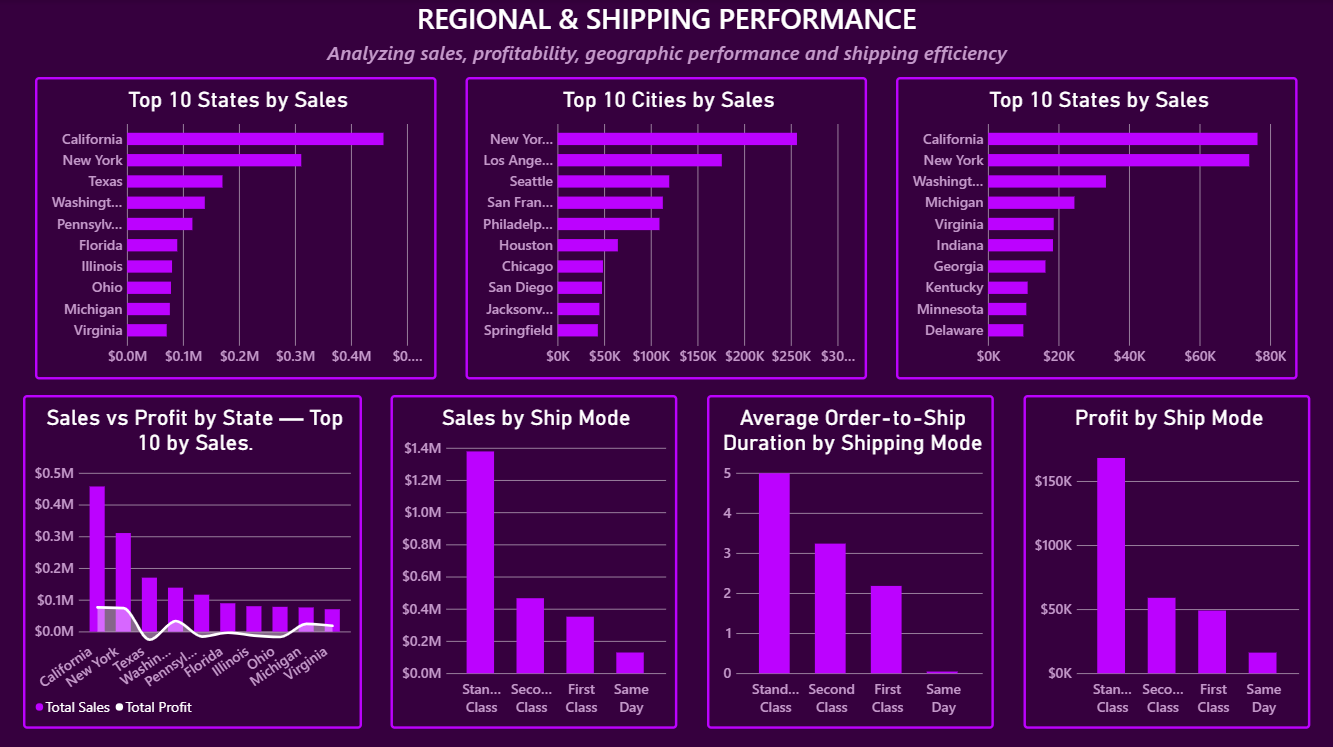

What the dashboard file says about the page in this screenshot:
{"tool":"powerbi","page":{"name":"Regional & Shipping Analysis","canvas":[2560,1440],"ordinal":3},"visuals":[{"type":"textbox","box":[793.3,0,972.5,75],"z":0},{"type":"textbox","box":[600,76.7,1360,66.7],"z":1000},{"type":"clusteredBarChart","title":"Top 10 States by Sales","fields":{"Category":["retail_sales_analytics superstore_clean.State"],"Y":["retail_sales_analytics superstore_clean.Total Sales"]},"box":[70,150,770,580],"z":2000},{"type":"clusteredBarChart","title":"Top 10 States by Sales","fields":{"Category":["retail_sales_analytics superstore_clean.State"],"Y":["retail_sales_analytics superstore_clean.Total Profit"]},"box":[1720,150,770,580],"z":3000},{"type":"clusteredBarChart","title":"Top 10 Cities by Sales","fields":{"Category":["retail_sales_analytics superstore_clean.City"],"Y":["retail_sales_analytics superstore_clean.Total Sales"]},"box":[895,150,770,580],"z":4000},{"type":"clusteredColumnChart","title":"Sales by Ship Mode","fields":{"Category":["retail_sales_analytics superstore_clean.Ship Mode"],"Y":["retail_sales_analytics superstore_clean.Total Sales"]},"box":[751.7,760,550,640],"z":5000},{"type":"clusteredColumnChart","title":"Profit by Ship Mode","fields":{"Category":["retail_sales_analytics superstore_clean.Ship Mode"],"Y":["retail_sales_analytics superstore_clean.Total Profit"]},"box":[1965,760,550,640],"z":6000},{"type":"clusteredColumnChart","title":"Average Order-to-Ship Duration by Shipping Mode","fields":{"Category":["retail_sales_analytics superstore_clean.Ship Mode"],"Y":["Avg(retail_sales_analytics superstore_clean.Shipping Duration Days)"]},"box":[1358.3,760,550,640],"z":7000},{"type":"lineClusteredColumnComboChart","title":"Sales vs Profit by State — Top 10 by Sales.","fields":{"Category":["retail_sales_analytics superstore_clean.State"],"Y":["retail_sales_analytics superstore_clean.Total Sales"],"Y2":["retail_sales_analytics superstore_clean.Total Profit"]},"box":[45,760,650,640],"z":8000}]}

Visuals, with their boxes in screenshot pixels (x1, y1, x2, y2), scaled from the page's 2560x1440 canvas onto the 1333x747 screenshot:
textbox: pyautogui.locateOnScreen(413, 0, 919, 39)
textbox: pyautogui.locateOnScreen(312, 40, 1021, 74)
"Top 10 States by Sales" clusteredBarChart: pyautogui.locateOnScreen(36, 78, 437, 379)
"Top 10 States by Sales" clusteredBarChart: pyautogui.locateOnScreen(896, 78, 1297, 379)
"Top 10 Cities by Sales" clusteredBarChart: pyautogui.locateOnScreen(466, 78, 867, 379)
"Sales by Ship Mode" clusteredColumnChart: pyautogui.locateOnScreen(391, 394, 678, 726)
"Profit by Ship Mode" clusteredColumnChart: pyautogui.locateOnScreen(1023, 394, 1310, 726)
"Average Order-to-Ship Duration by Shipping Mode" clusteredColumnChart: pyautogui.locateOnScreen(707, 394, 994, 726)
"Sales vs Profit by State — Top 10 by Sales." lineClusteredColumnComboChart: pyautogui.locateOnScreen(23, 394, 362, 726)
